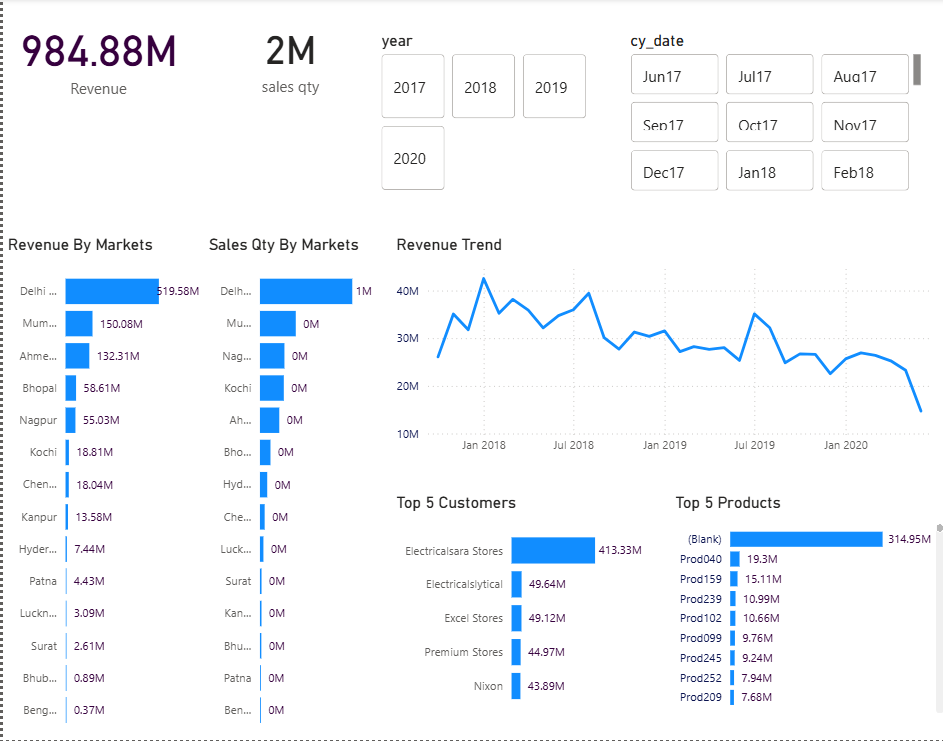

Layout of this report page (visuals, bound fields, positions):
{"tool":"powerbi","page":{"name":"Page 1","canvas":[1003,787],"ordinal":0},"visuals":[{"type":"card","fields":{"Values":["Base Measures.Revenue"]},"box":[0,0,202.1,122.5],"z":0},{"type":"card","fields":{"Values":["Base Measures.sales qty"]},"box":[213.2,0,183,122.5],"z":1000},{"type":"barChart","title":"Revenue By Markets","fields":{"Y":["Base Measures.Revenue"],"Category":["sales markets.markets_name"]},"box":[0,251.4,213.2,536.2],"z":2000},{"type":"barChart","title":"Sales Qty By Markets","fields":{"Y":["Base Measures.sales qty"],"Category":["sales markets.markets_name"]},"box":[213.2,251.4,183,536.2],"z":3000},{"type":"advancedSlicerVisual","fields":{"Values":["sales date.year"]},"box":[396.2,35,227.5,175],"z":4000},{"type":"advancedSlicerVisual","fields":{"Values":["sales date.cy_date"]},"box":[660.3,35,318.2,175],"z":5000},{"type":"barChart","title":"Top 5 Customers","fields":{"Y":["Base Measures.Revenue"],"Category":["sales customers.custmer_name"]},"box":[412.1,525,270.5,238.7],"z":5001},{"type":"barChart","title":"Top 5 Products","fields":{"Y":["Base Measures.Revenue"],"Category":["sales products.product_code"]},"box":[708,525,294.3,238.7],"z":5002},{"type":"lineChart","title":"Revenue Trend","fields":{"Y":["Base Measures.Revenue"],"Category":["sales date.cy_date.Variation.Date Hierarchy.Year","sales date.cy_date.Variation.Date Hierarchy.Quarter","sales date.cy_date.Variation.Date Hierarchy.Month","sales date.cy_date.Variation.Date Hierarchy.Day"]},"box":[412.1,251.4,590.3,240.2],"z":5003}]}

Visuals, with their boxes in screenshot pixels (x1, y1, x2, y2), scaled from the page's 1003x787 canvas onto the 943x741 screenshot:
card - Base Measures.Revenue: bbox(0, 0, 190, 115)
card - Base Measures.sales qty: bbox(200, 0, 372, 115)
"Revenue By Markets" barChart: bbox(0, 237, 200, 740)
"Sales Qty By Markets" barChart: bbox(200, 237, 372, 740)
advancedSlicerVisual - sales date.year: bbox(372, 33, 586, 198)
advancedSlicerVisual - sales date.cy_date: bbox(621, 33, 920, 198)
"Top 5 Customers" barChart: bbox(387, 494, 642, 719)
"Top 5 Products" barChart: bbox(666, 494, 942, 719)
"Revenue Trend" lineChart: bbox(387, 237, 942, 463)
